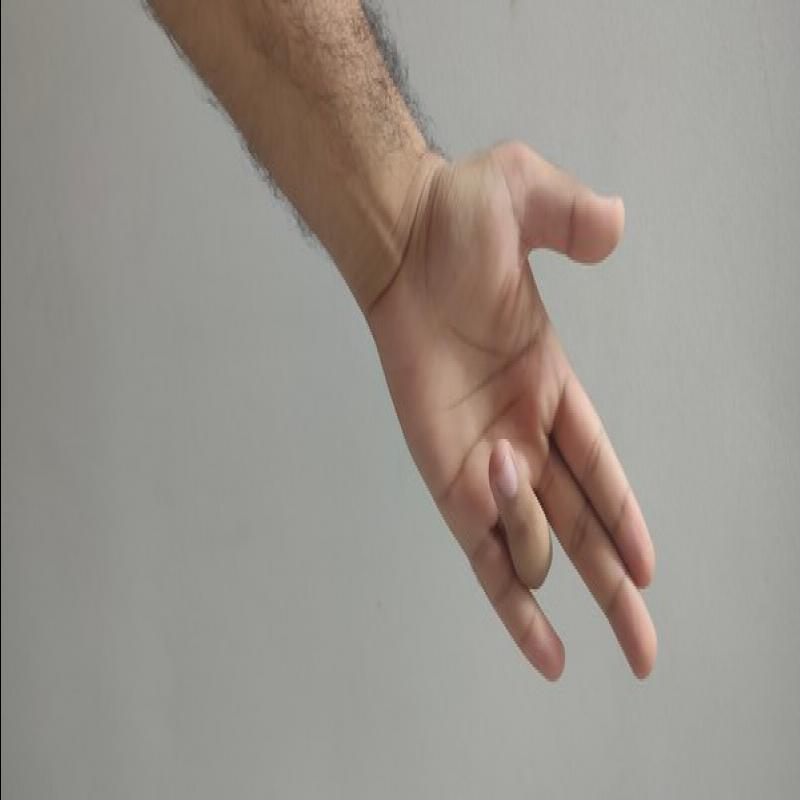Pathaaka: (367, 124, 672, 696)
